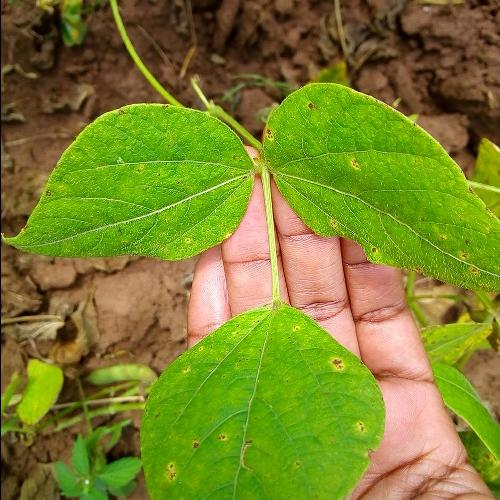hawar: (346, 194, 488, 286), (154, 393, 258, 487), (298, 326, 369, 448)
